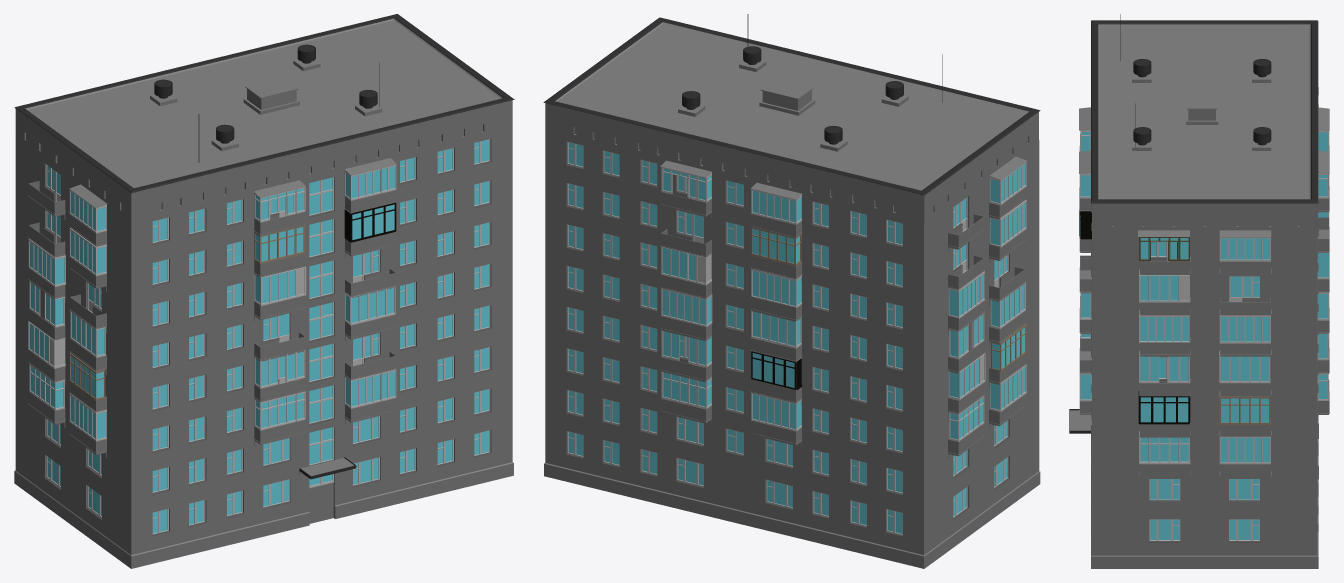
3 renders of one model, left to right at view 1: azimuth 30°, elevation 25°; view 2: azimuth 150°, elevation 25°; view 3: azimuth 270°, elevation 25°, orthographic. The views are drawn at different scales.
Visible parts, largest first — view 1: stena; view 2: stena; view 3: stena.
Part boxes in pixels (<box>): stena: <box>14,14,514,568</box>; stena: <box>543,14,1040,568</box>; stena: <box>1069,14,1329,568</box>.
Bounding box in the file's own units: 29.59 × 29.62 × 16.96.
